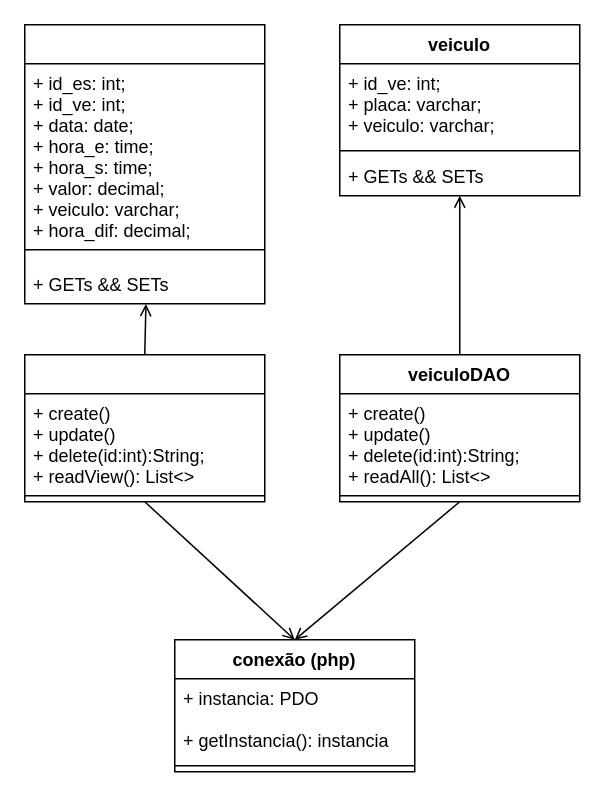
Image size: 605x797. Some labels were removed from this diagram. The box of each missing label's shape, as (x1, y1, x2, y2) in pixels:
estacionamento: (23, 23, 265, 304)
estacionamentoDAO: (23, 353, 265, 502)
